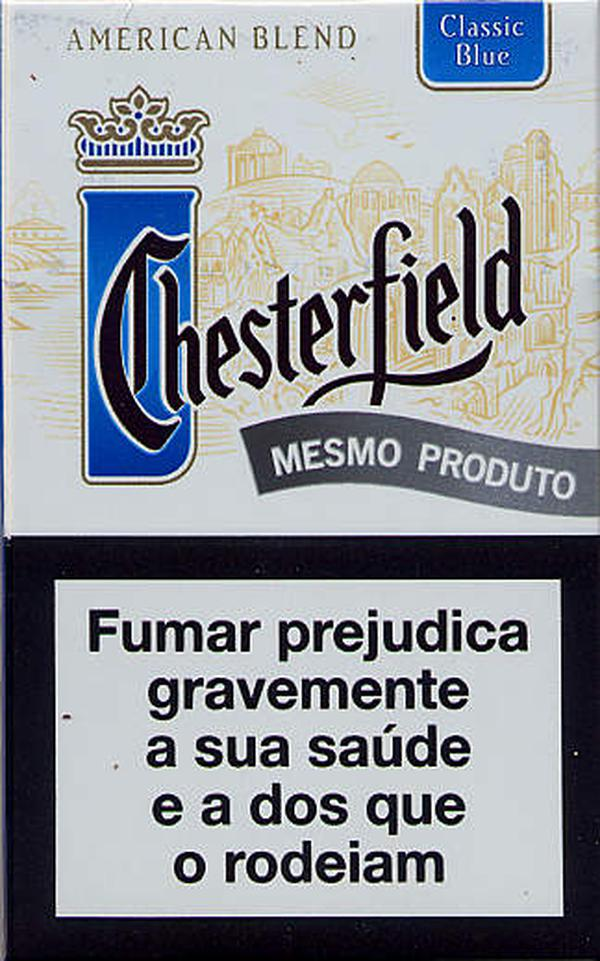chesterfield_blue: (1, 1, 598, 961)
